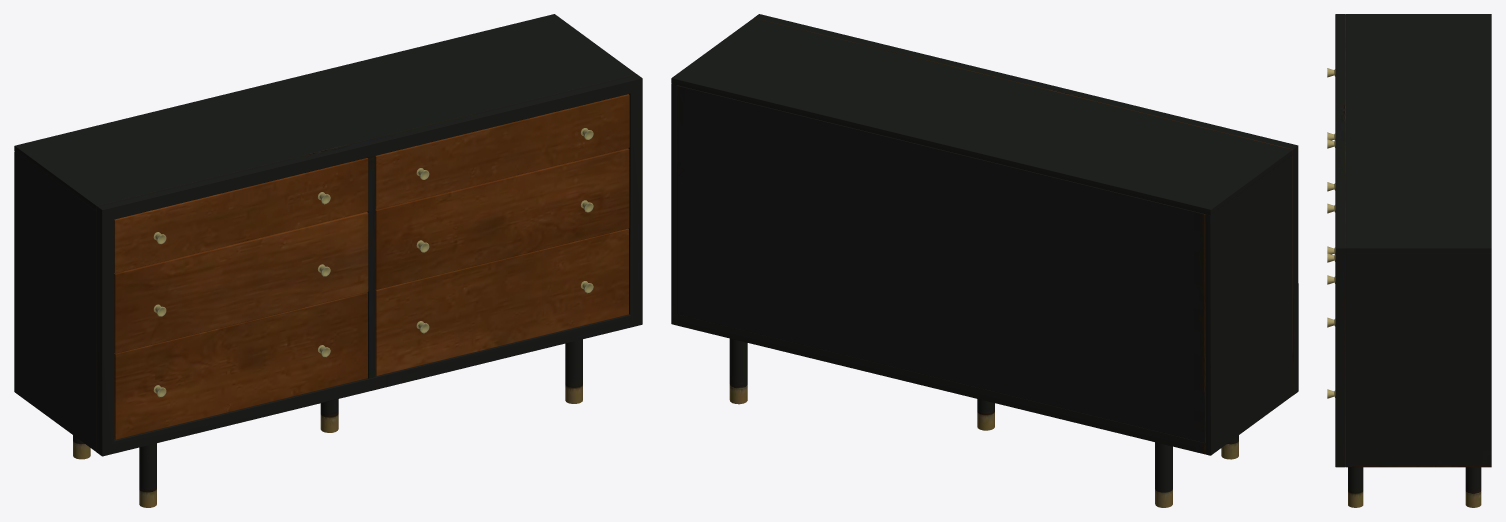
3 renders of one model, left to right at view 1: azimuth 30°, elevation 25°; view 2: azimuth 150°, elevation 25°; view 3: azimuth 270°, elevation 25°, orthographic. The views are drawn at different scales.
Visible parts, largest first — view 1: RootNode; view 2: RootNode; view 3: RootNode.
Boxes of the visible parts, x1,y1,x2,y2 form: RootNode: (14, 14, 642, 507); RootNode: (671, 14, 1298, 507); RootNode: (1327, 14, 1491, 507).
Bounding box in the file's own units: 1.56 × 0.8721 × 0.4627.
1 material, 1 textured.
